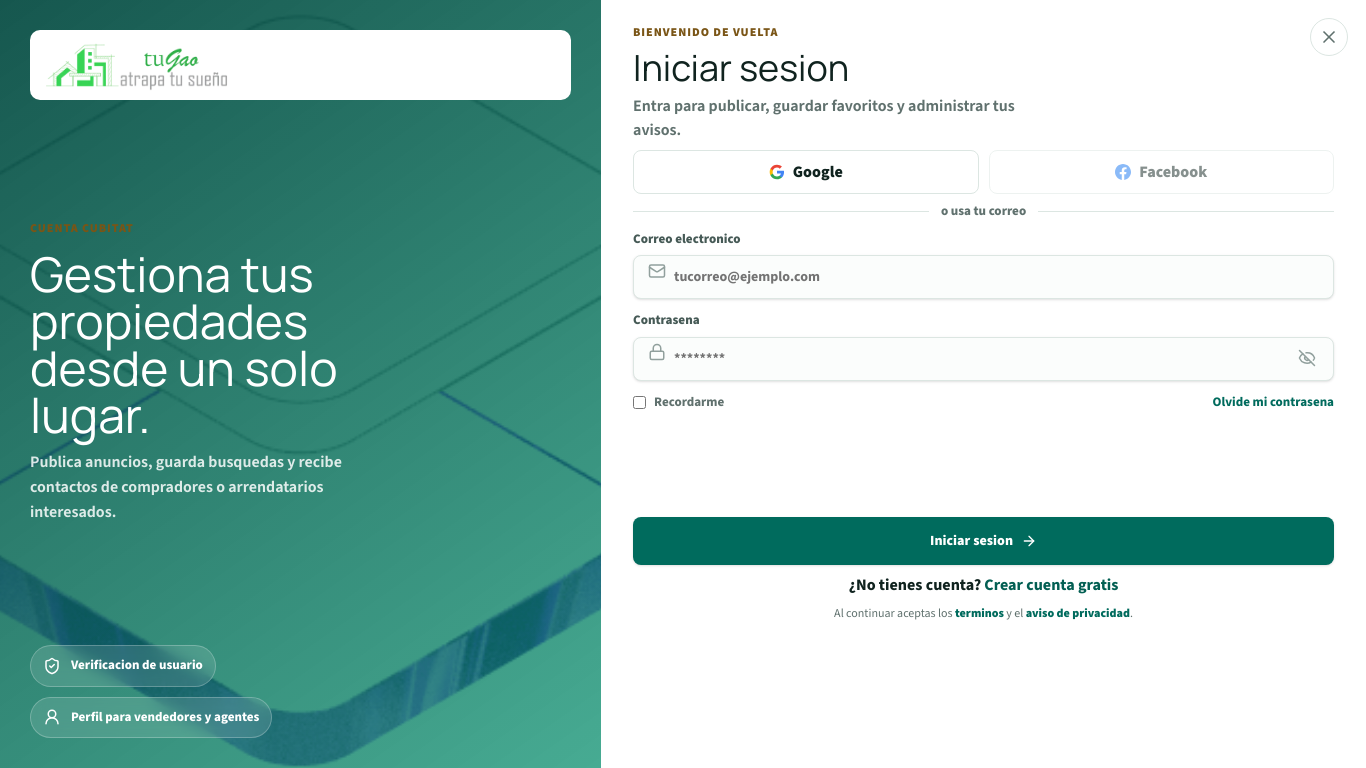
Test: LoginModal CAPTCHA › blocks password login until Turnstile is completed
The width and height of the screenshot is (1366, 768).
Type "QA@Example.com" into the field with placeholder "tucorreo@ejemplo.com" at (984, 277), box [633,255,1334,299]
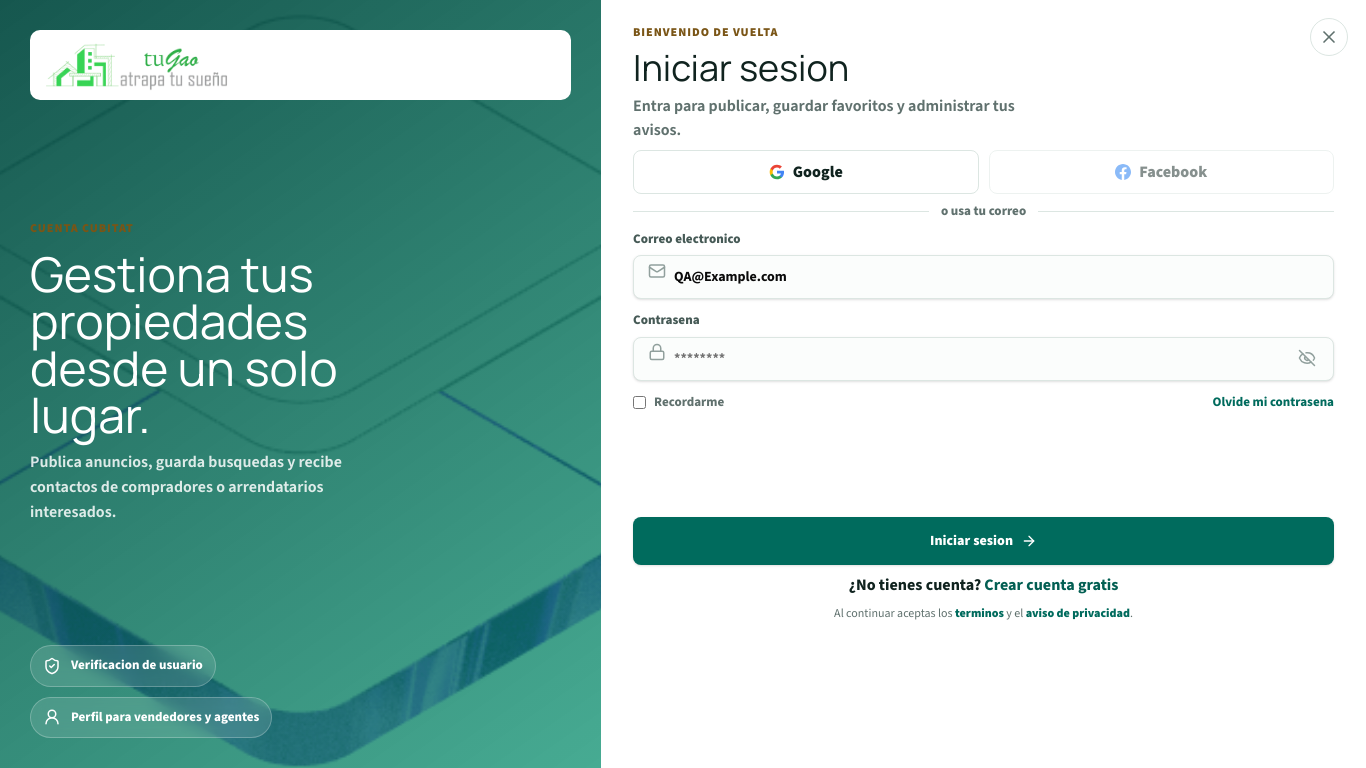
Type "Secure1!" into the password field with placeholder "********" at (984, 358), box [633,336,1334,380]
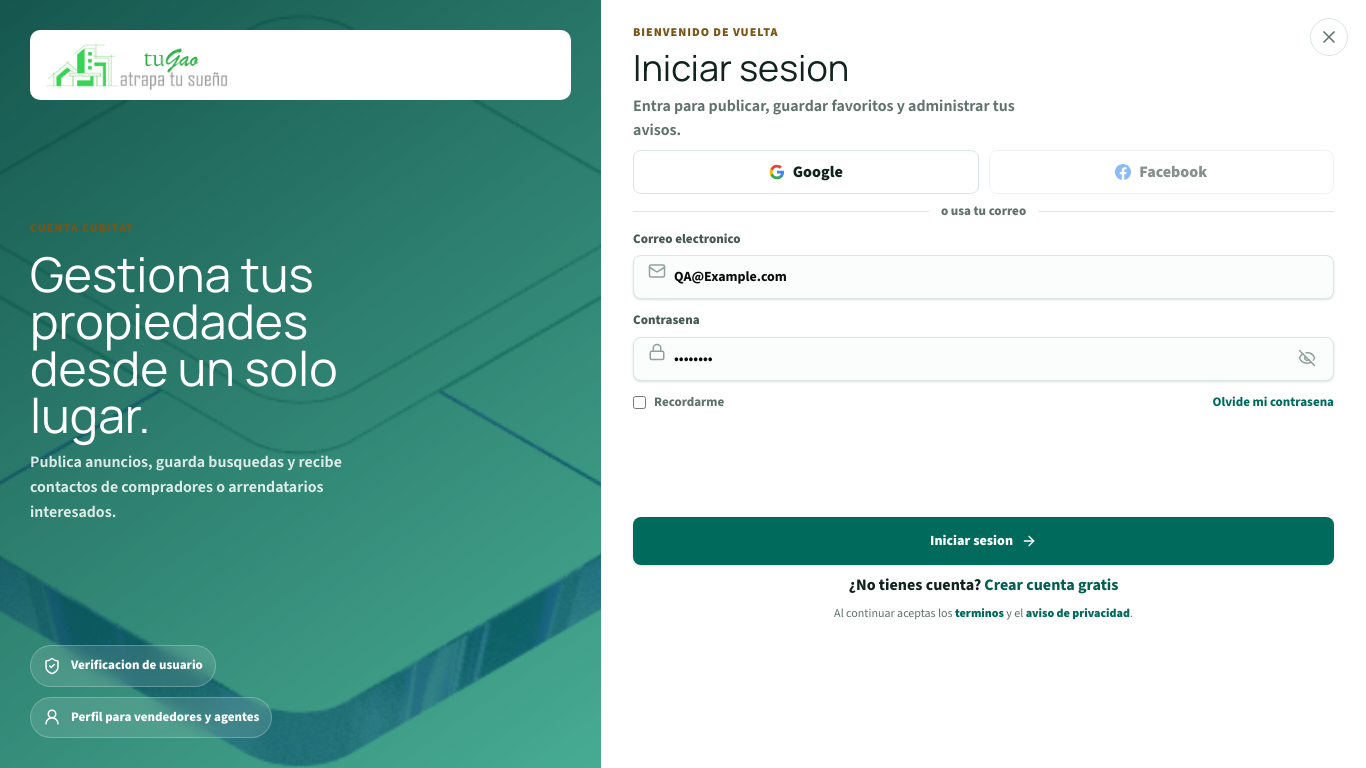
Click the button "Iniciar sesion" at (984, 541), box [633,517,1334,565]
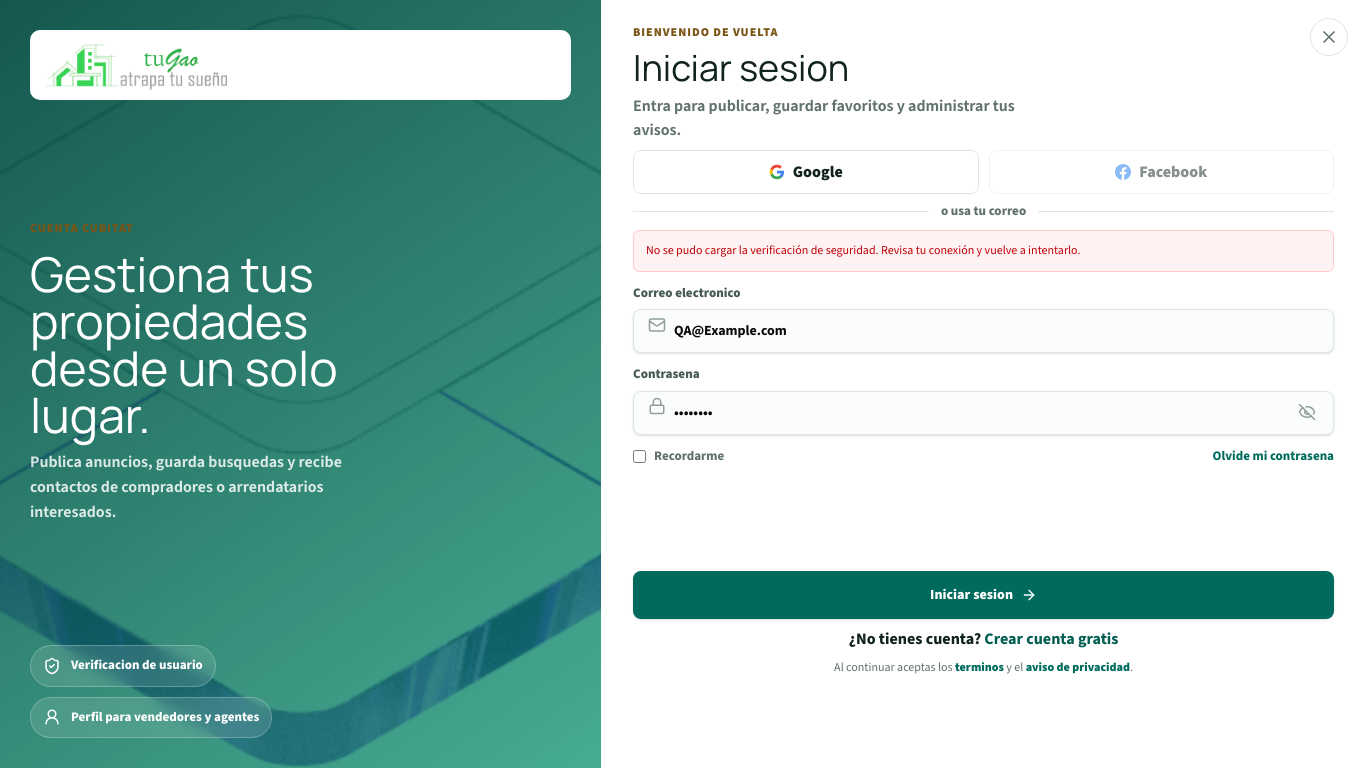
Expected: the text "Por favor, completa la verificación de seguridad." is shown, [633,230,1334,272]
